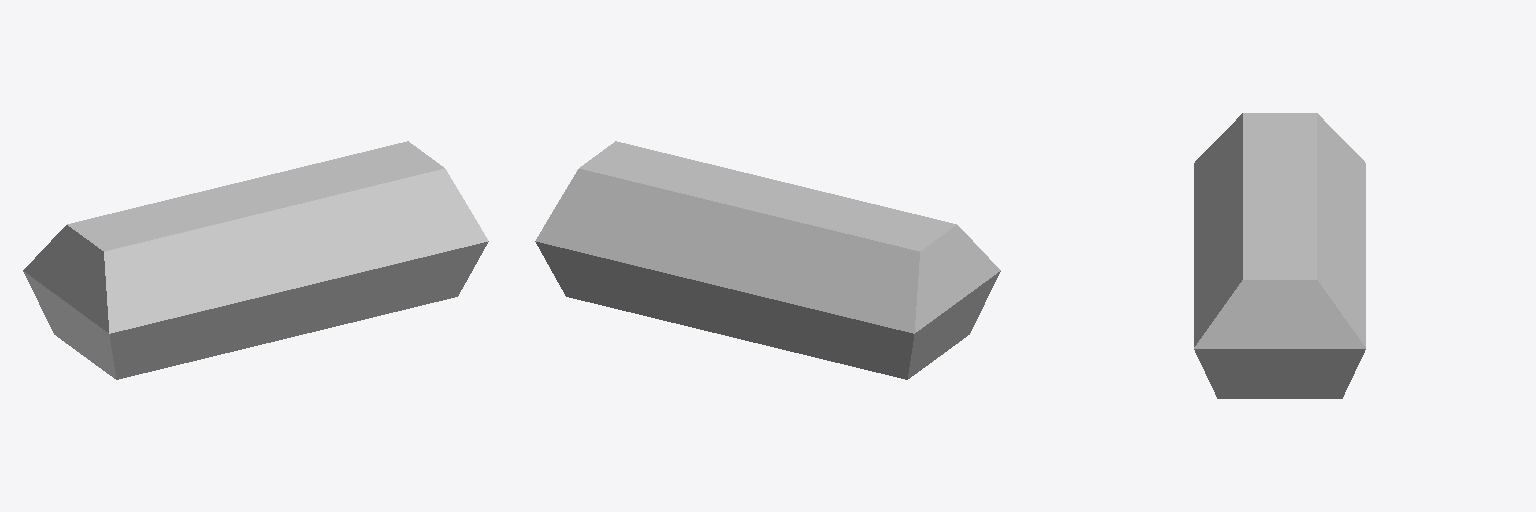
File: no-handles.obj
3 views of the same model, side by side, from view 1: azimuth 30°, elevation 25°; view 2: azimuth 150°, elevation 25°; view 3: azimuth 270°, elevation 25° (orthographic).
Parts seen in each view (by area): view 1: Group35, Group45, Group40, Group15; view 2: Group20, Group25, Group40, Group15; view 3: Group10, Group40, Group20, Group35.
Part boxes in pixels (left/top/right/bottom): Group35: left=104, top=169, right=487, bottom=333; Group45: left=110, top=241, right=488, bottom=379; Group40: left=67, top=141, right=444, bottom=251; Group15: left=23, top=225, right=115, bottom=378; Group20: left=536, top=169, right=919, bottom=333; Group25: left=535, top=241, right=913, bottom=379; Group40: left=579, top=141, right=956, bottom=251; Group15: left=908, top=225, right=1000, bottom=378; Group10: left=1194, top=280, right=1365, bottom=398; Group40: left=1243, top=113, right=1316, bottom=279; Group20: left=1317, top=113, right=1365, bottom=346; Group35: left=1194, top=113, right=1242, bottom=346.
Size of the model in its own units: 200 by 60 by 78.84.